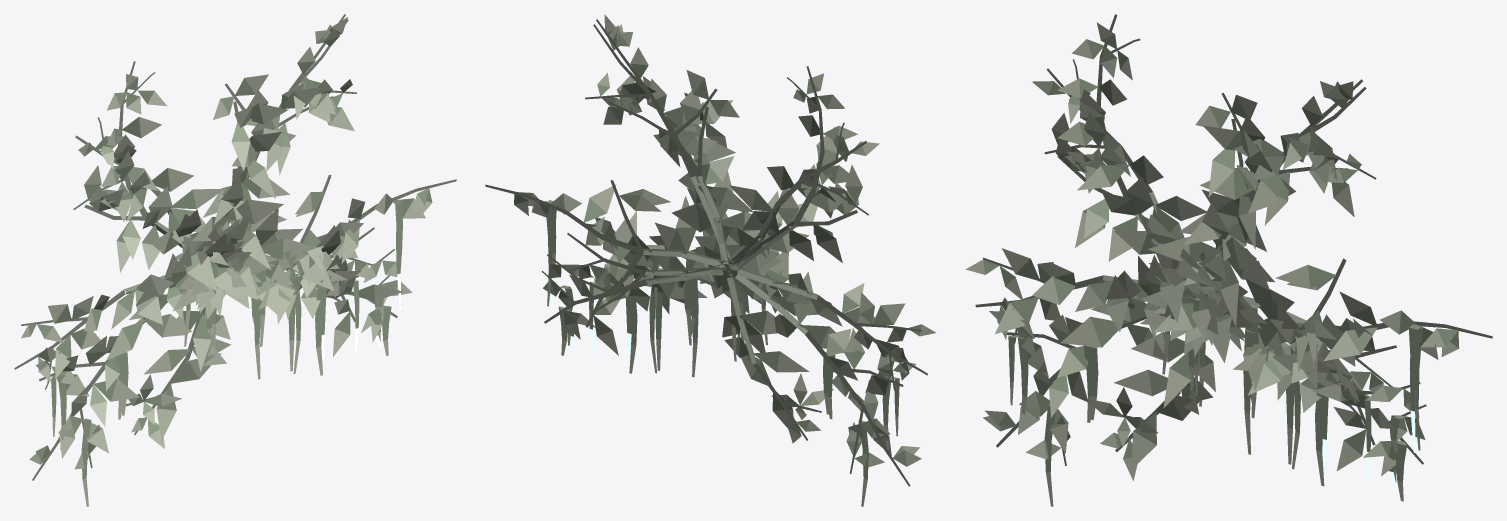
The model's file is plant_t1_flat_c.fbx.
The picture shows the model from 3 angles, left to right: view 1: azimuth 30°, elevation 25°; view 2: azimuth 150°, elevation 25°; view 3: azimuth 330°, elevation 25°; orthographic projection. The views are drawn at different scales.
Parts seen in each view (by area): view 1: plant_t1_flat_c; view 2: plant_t1_flat_c; view 3: plant_t1_flat_c.
Boxes of the visible parts, x1=… form: plant_t1_flat_c: x1=14, y1=14, x2=456, y2=506; plant_t1_flat_c: x1=485, y1=14, x2=936, y2=506; plant_t1_flat_c: x1=965, y1=14, x2=1492, y2=506.
Bounding box in the file's own units: 44.14 × 40.96 × 2.96.
